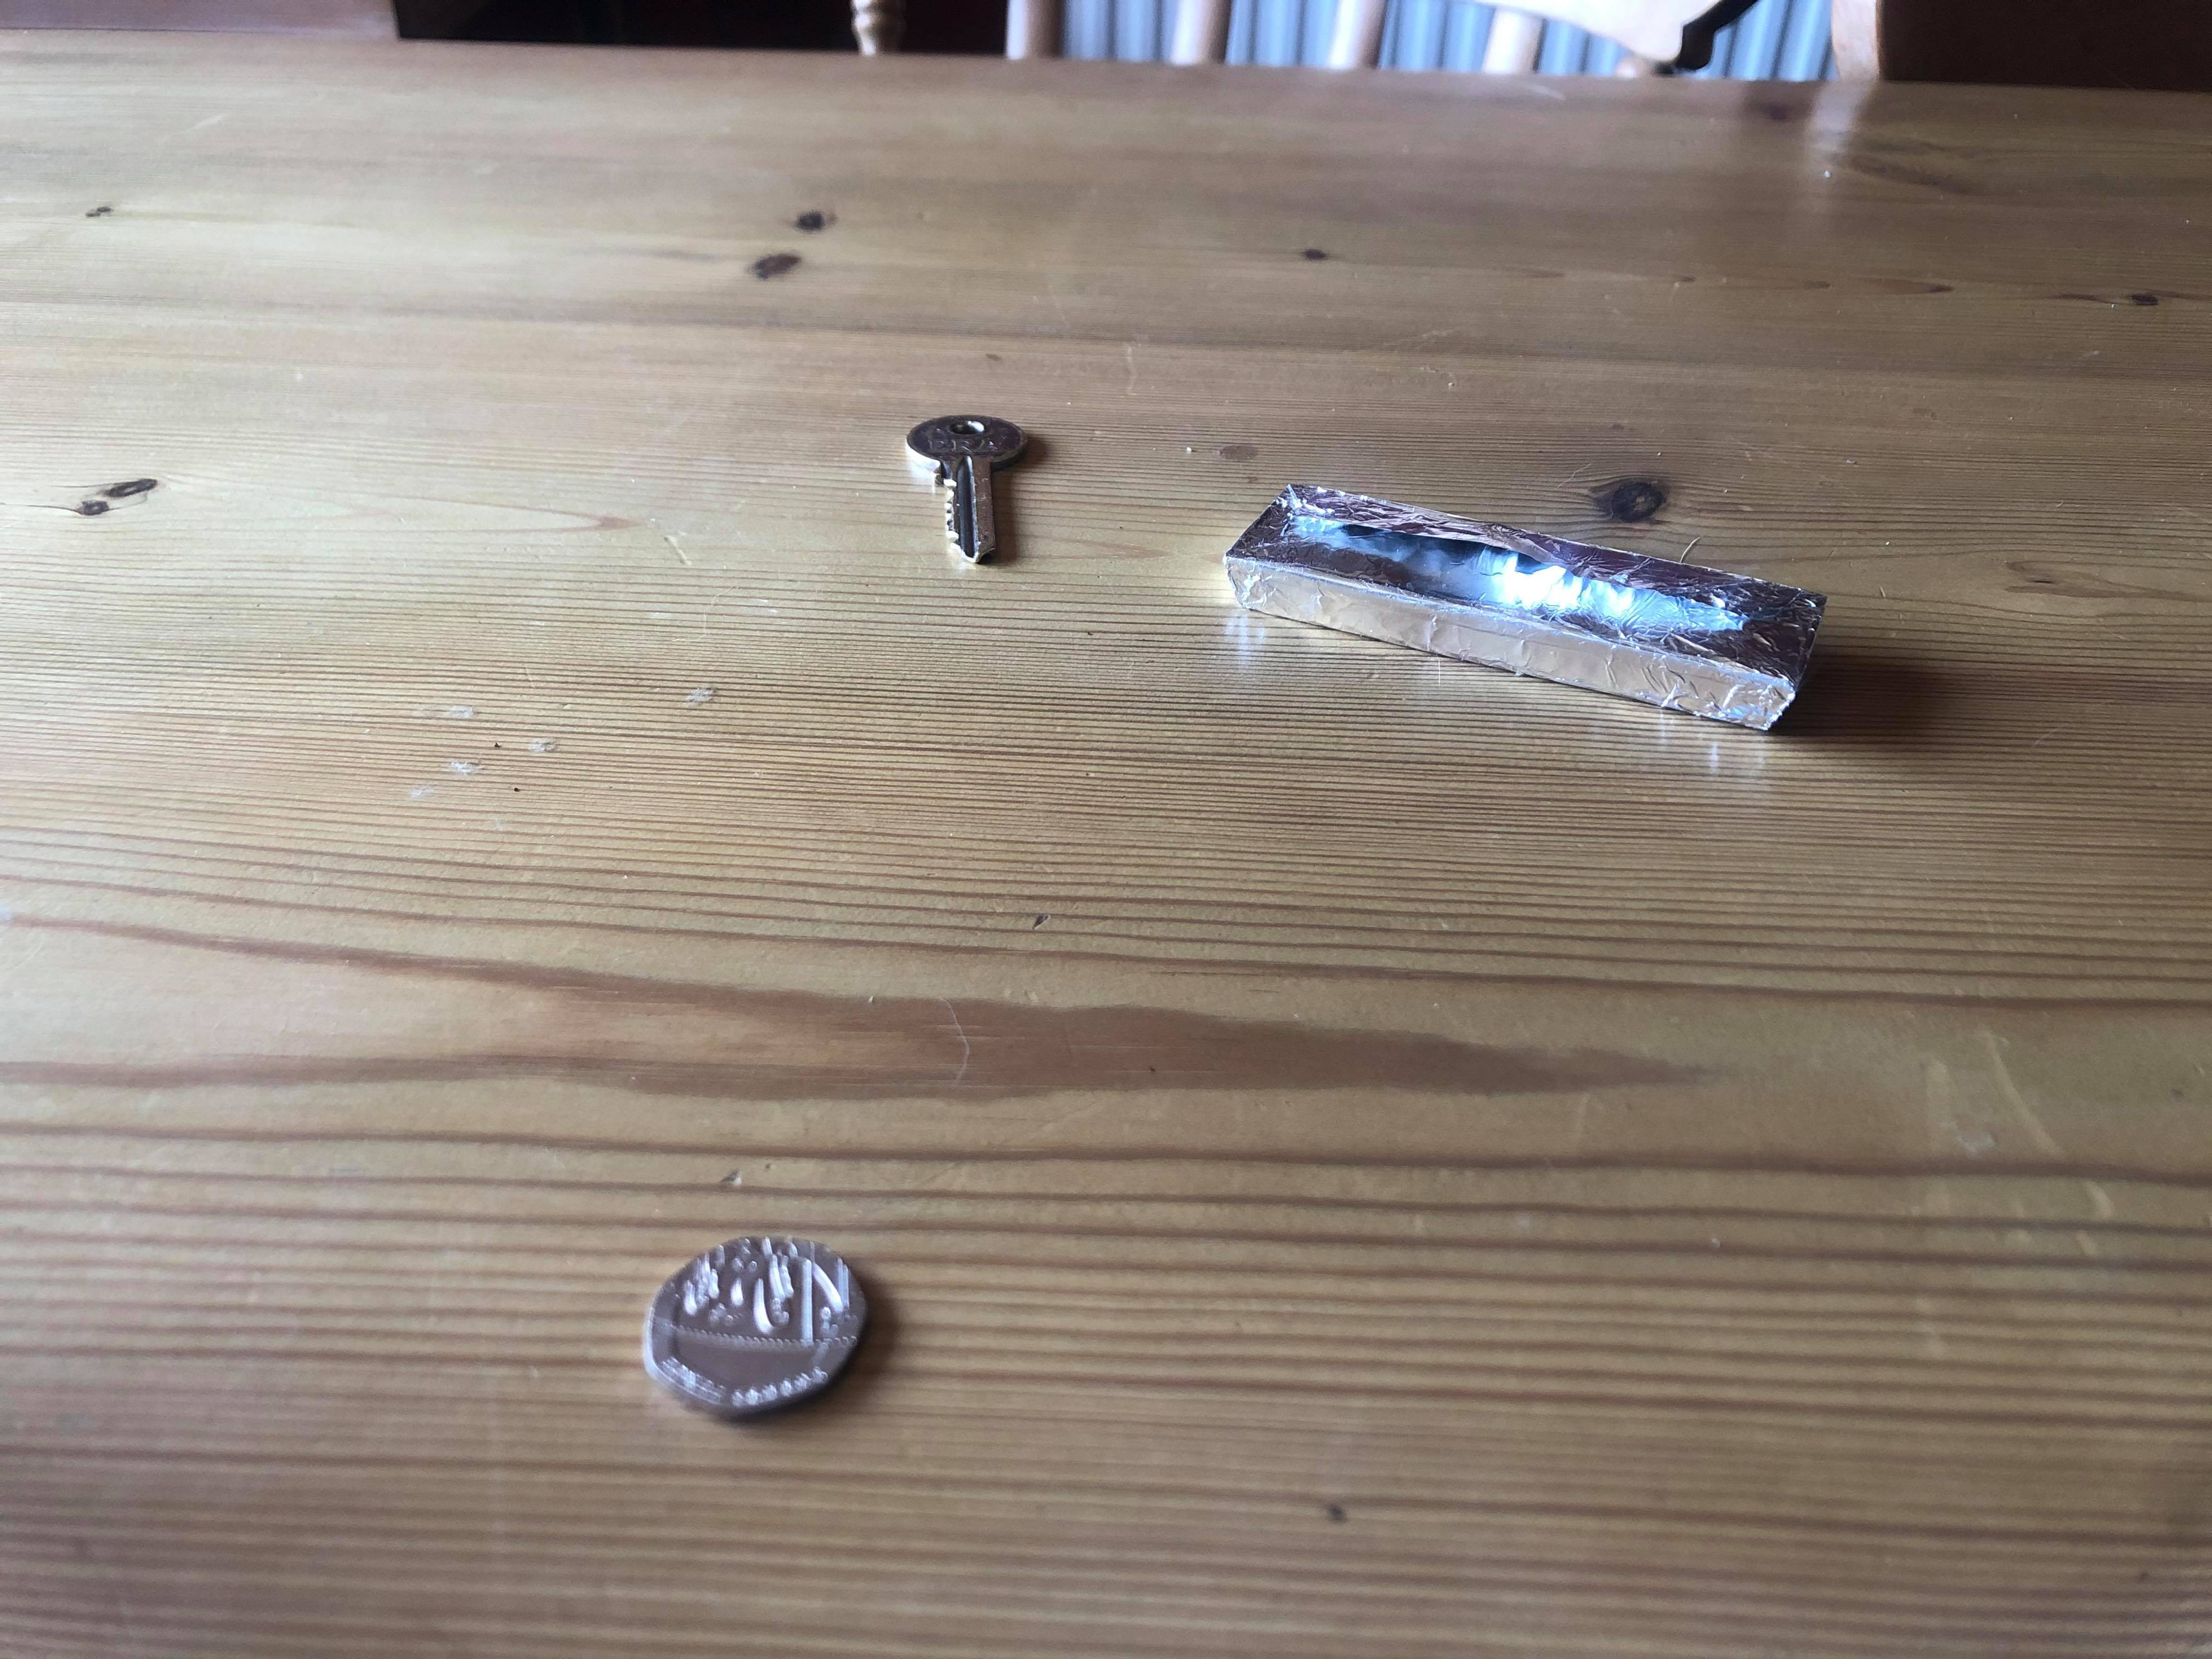Coin: (632, 1227, 871, 1429)
Foil: (1216, 474, 1834, 748)
Key: (892, 404, 1035, 563)
